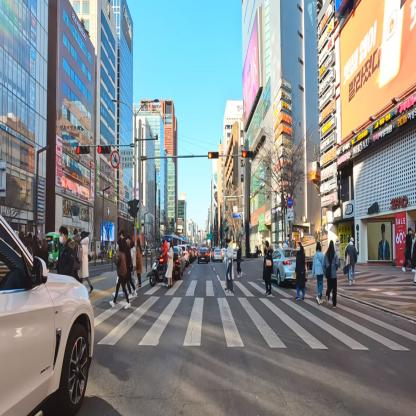red: (76, 144, 92, 155), (207, 150, 221, 162), (98, 143, 111, 153), (242, 150, 254, 160)
